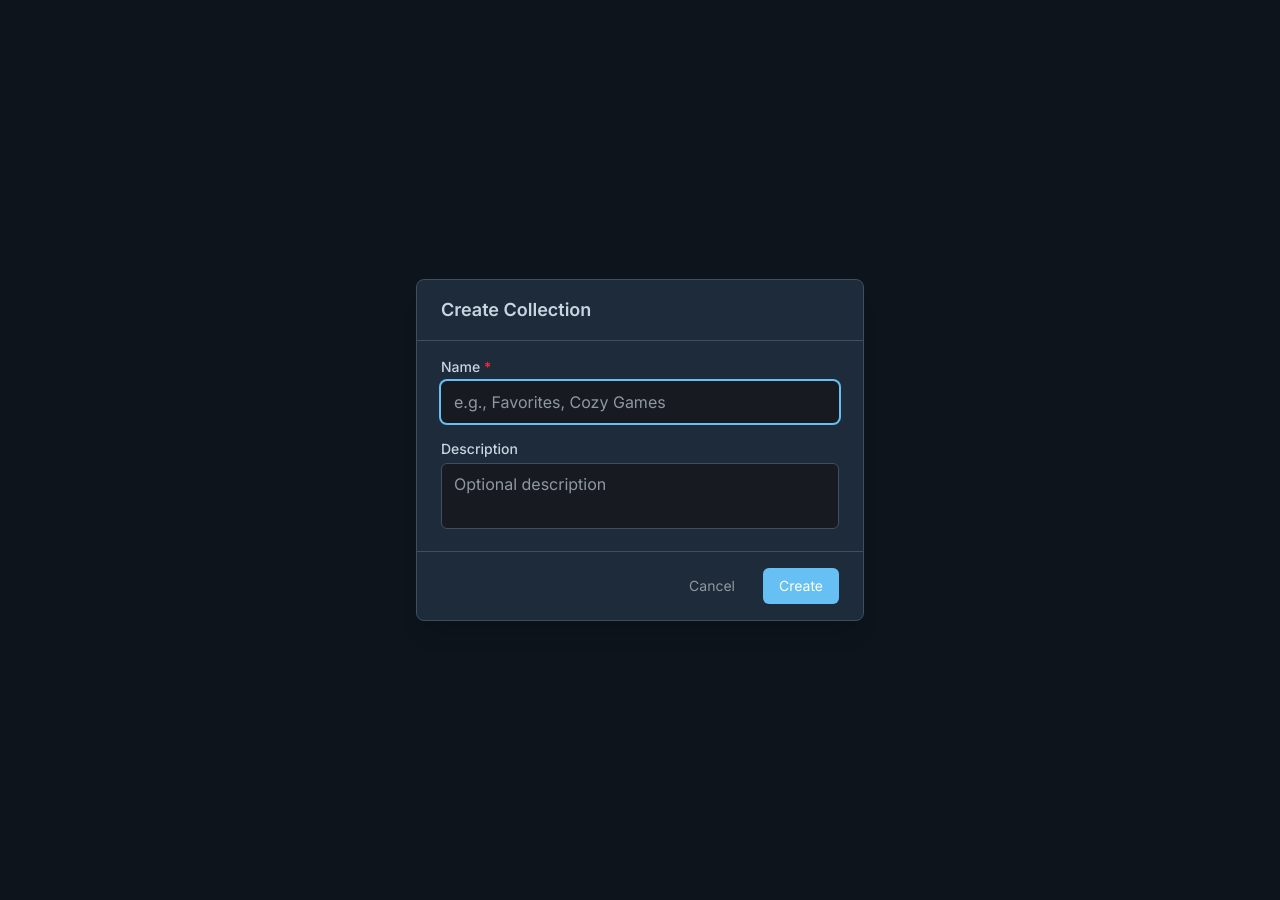
Scenario: CollectionModal › form submission › should clear error when user types
The image size is (1280, 900).
Note: Trigger error first
Click the button with test id "collection-save" at (801, 586), box top-left (763, 568), bottom-right (839, 604)
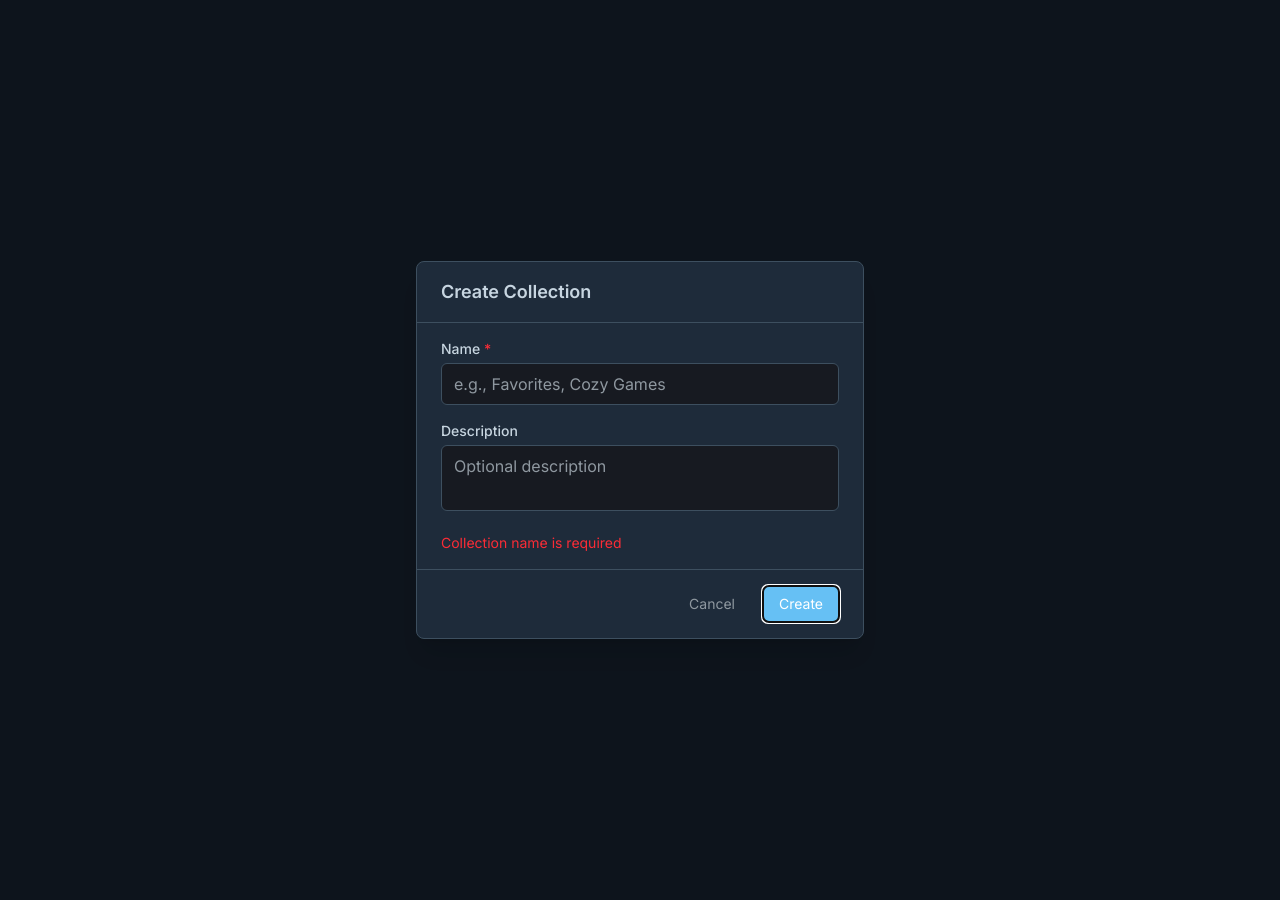
Result: the text "Collection name is required" is shown at top-left (441, 534), bottom-right (622, 551)
Note: Type to clear error
Type "F" into the field with test id "collection-name-input" at (640, 384), box top-left (441, 363), bottom-right (839, 405)
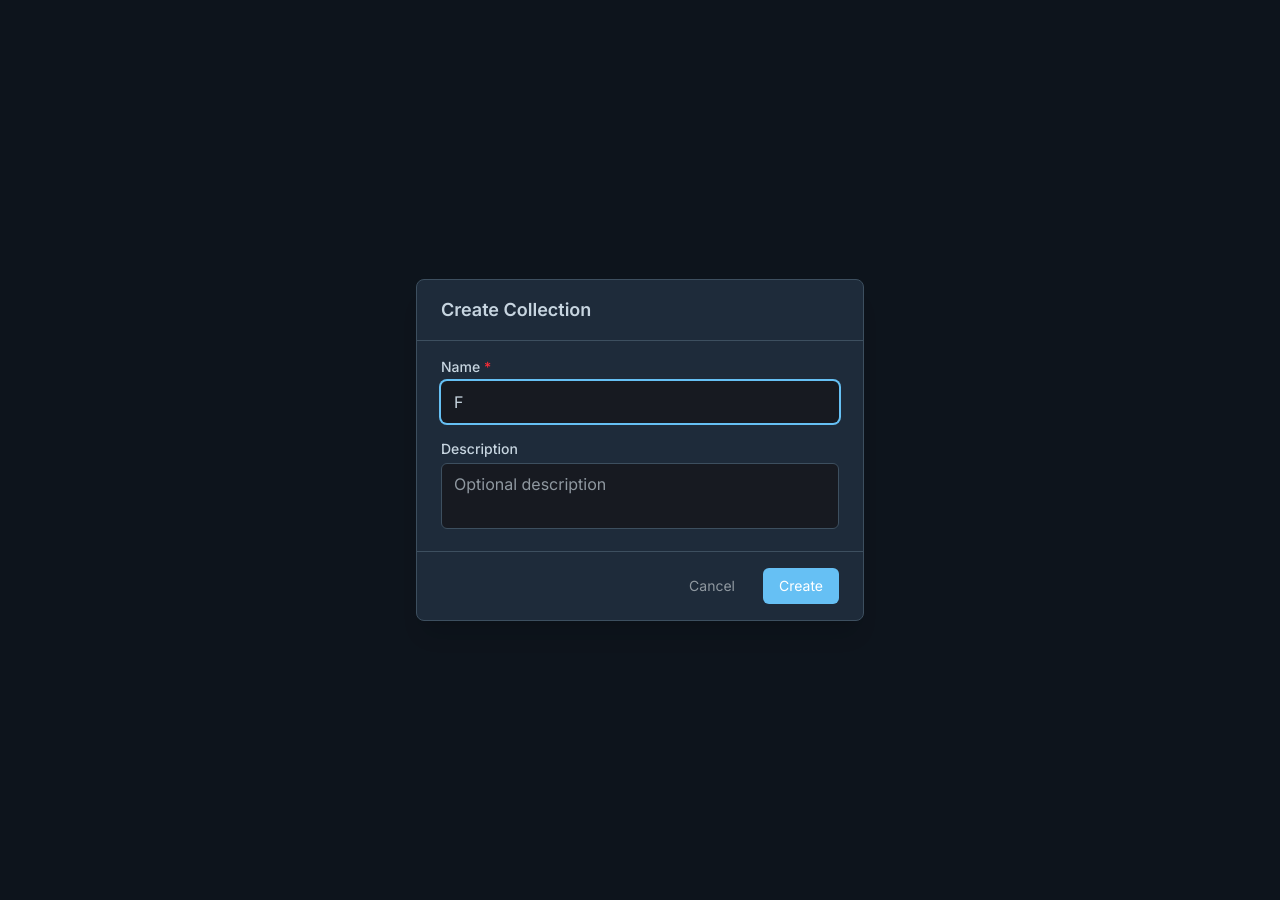
Result: the text with test id "collection-error" is gone
